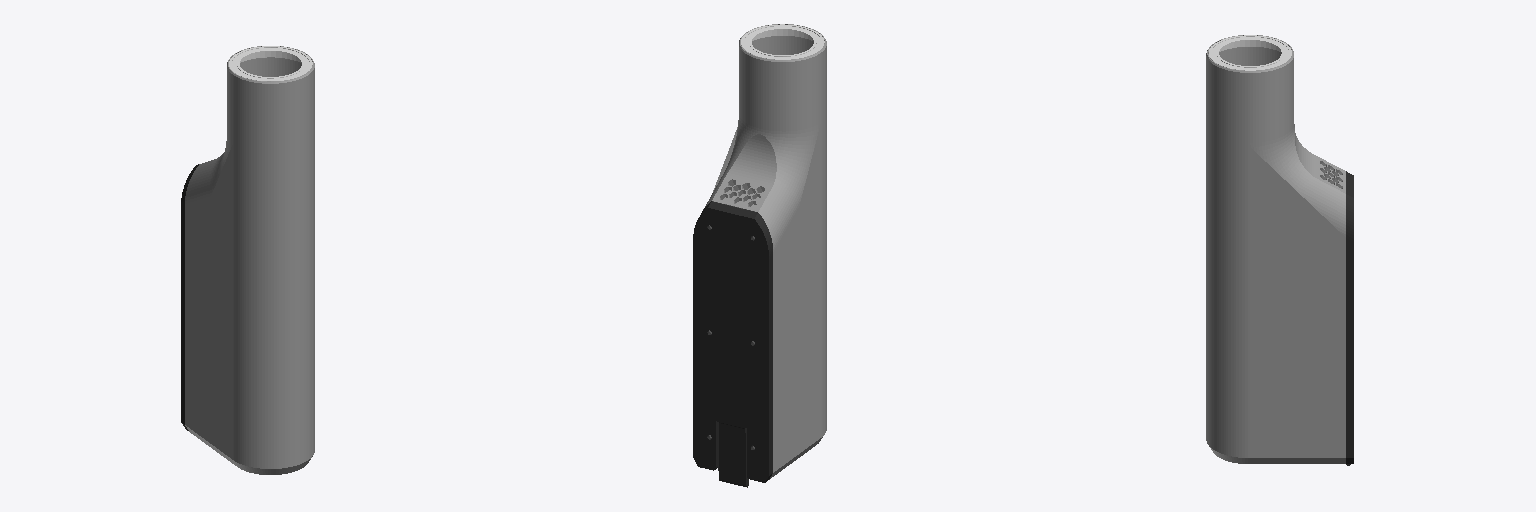
File: Haptic_device_base.obj
3 renders of one model, left to right at view 1: azimuth 30°, elevation 25°; view 2: azimuth 150°, elevation 25°; view 3: azimuth 270°, elevation 25°, orthographic.
Parts seen in each view (by area): view 1: Mesh14_G_502___Housing_G_500___Base_Model, Mesh2_G_328___Yaw_Bearing_G_300___Head_assy_G_200__300_Model, Mesh15_G_700___Mounting_plate_Model; view 2: Mesh14_G_502___Housing_G_500___Base_Model, Mesh15_G_700___Mounting_plate_Model, Mesh2_G_328___Yaw_Bearing_G_300___Head_assy_G_200__300_Model; view 3: Mesh14_G_502___Housing_G_500___Base_Model, Mesh15_G_700___Mounting_plate_Model, Mesh2_G_328___Yaw_Bearing_G_300___Head_assy_G_200__300_Model.
Boxes of the visible parts, x1=… form: Mesh14_G_502___Housing_G_500___Base_Model: x1=185, y1=46, x2=314, y2=474; Mesh2_G_328___Yaw_Bearing_G_300___Head_assy_G_200__300_Model: x1=229, y1=46, x2=312, y2=81; Mesh15_G_700___Mounting_plate_Model: x1=181, y1=164, x2=198, y2=430; Mesh14_G_502___Housing_G_500___Base_Model: x1=703, y1=24, x2=826, y2=479; Mesh15_G_700___Mounting_plate_Model: x1=693, y1=201, x2=772, y2=487; Mesh2_G_328___Yaw_Bearing_G_300___Head_assy_G_200__300_Model: x1=741, y1=24, x2=824, y2=59; Mesh14_G_502___Housing_G_500___Base_Model: x1=1206, y1=35, x2=1345, y2=463; Mesh15_G_700___Mounting_plate_Model: x1=1346, y1=171, x2=1353, y2=465; Mesh2_G_328___Yaw_Bearing_G_300___Head_assy_G_200__300_Model: x1=1209, y1=35, x2=1291, y2=70.
Bounding box in the file's own units: 49.4 × 251 × 82.55.